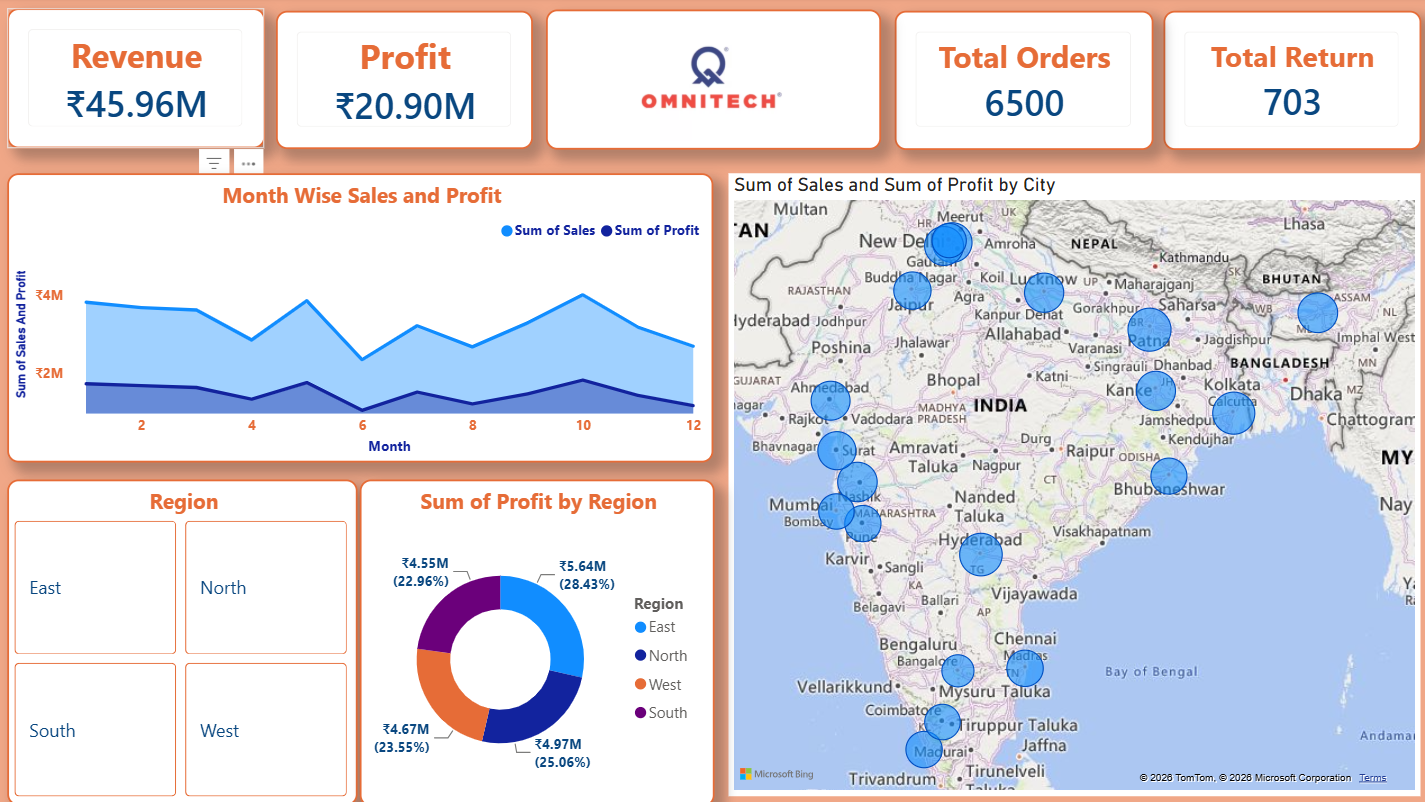

Layout of this report page (visuals, bound fields, positions):
{"tool":"powerbi","page":{"name":"Sales Analysis ","canvas":[1280,720],"ordinal":1},"visuals":[{"type":"cardVisual","fields":{"Data":["Sum(Sales_Transactions.Sales)"]},"box":[9.8,9.8,229.4,125.2],"z":0},{"type":"cardVisual","fields":{"Data":["Sum(Sales_Transactions.Profit)"]},"box":[249.7,12.3,229.2,123.5],"z":1000},{"type":"cardVisual","fields":{"Data":["Count(Returns.Return ID)"]},"box":[1039.3,12.3,229.4,123.9],"z":2000},{"type":"cardVisual","fields":{"Data":["Count(Sales_Transactions.Order ID)"]},"box":[800,12.3,230.7,123.9],"z":3000},{"type":"image","box":[489.6,11,298.2,125.2],"z":4000},{"type":"lineChart","title":"Month Wise Sales and  Profit","fields":{"Y":["Sum(Sales_Transactions.Sales)","Sum(Sales_Transactions.Profit)"],"Category":["Date_table.Month"]},"box":[9.6,156.4,628.5,258],"z":5000},{"type":"map","fields":{"Category":["Sales_Transactions.City"],"Size":["Sum(Sales_Transactions.Sales)"]},"box":[651.8,156.4,616.1,554.4],"z":6000},{"type":"advancedSlicerVisual","fields":{"Values":["Customers.Region"]},"box":[9.6,429.5,311.7,290.8],"z":7000},{"type":"donutChart","fields":{"Category":["Customers.Region"],"Y":["Sum(Sales_Transactions.Profit)"]},"box":[323.8,429.5,315.6,290.9],"z":8000}]}

Visuals, with their boxes in screenshot pixels (x1, y1, x2, y2), scaled from the page's 1280x720 canvas onto the 1425x802 screenshot:
cardVisual - Sum(Sales_Transactions.Sales): region(11, 11, 266, 150)
cardVisual - Sum(Sales_Transactions.Profit): region(278, 14, 533, 151)
cardVisual - Count(Returns.Return ID): region(1157, 14, 1412, 152)
cardVisual - Count(Sales_Transactions.Order ID): region(891, 14, 1147, 152)
image: region(545, 12, 877, 152)
"Month Wise Sales and  Profit" lineChart: region(11, 174, 710, 462)
map - Sales_Transactions.City x Sum(Sales_Transactions.Sales): region(726, 174, 1412, 792)
advancedSlicerVisual - Customers.Region: region(11, 478, 358, 801)
donutChart - Customers.Region x Sum(Sales_Transactions.Profit): region(360, 478, 712, 801)
